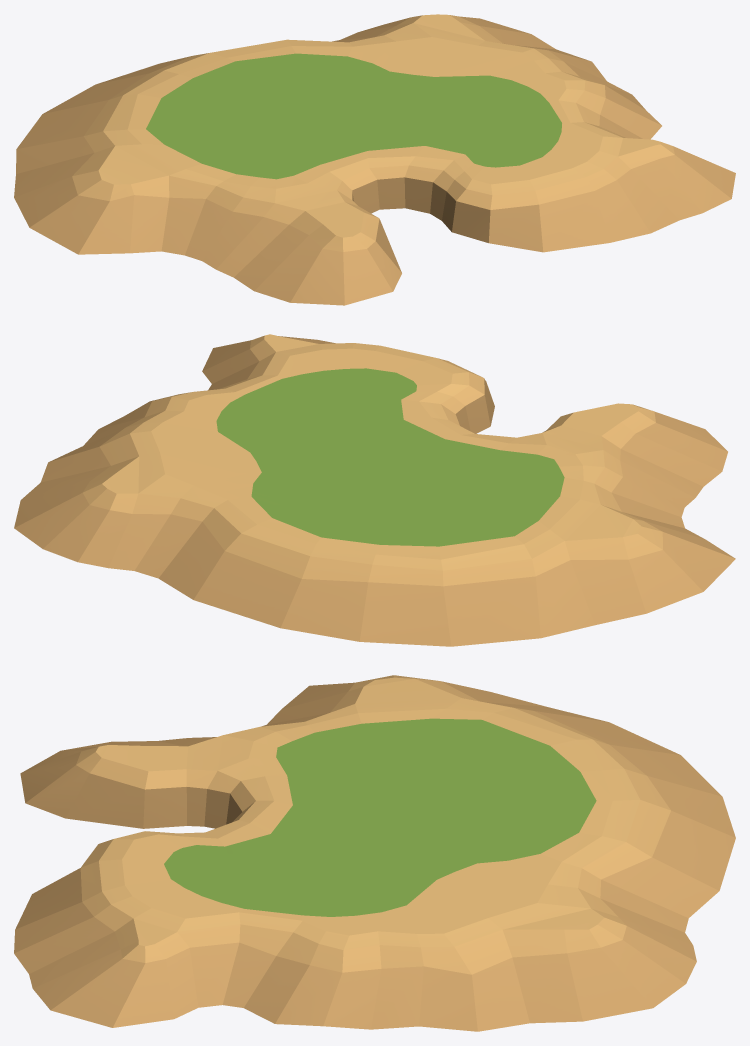
File: treasure Island.fbx
3 renders of one model, top to bottom at view 1: azimuth 30°, elevation 25°; view 2: azimuth 150°, elevation 25°; view 3: azimuth 270°, elevation 25°, orthographic. The views are drawn at different scales.
Visible parts, largest first — view 1: treasure Island; view 2: treasure Island; view 3: treasure Island.
Boxes of the visible parts, bbox=[...] form: treasure Island: bbox=[14, 14, 735, 305]; treasure Island: bbox=[14, 334, 735, 646]; treasure Island: bbox=[14, 675, 735, 1031].
Bounding box in the file's own units: 3452 × 222 × 2997.
